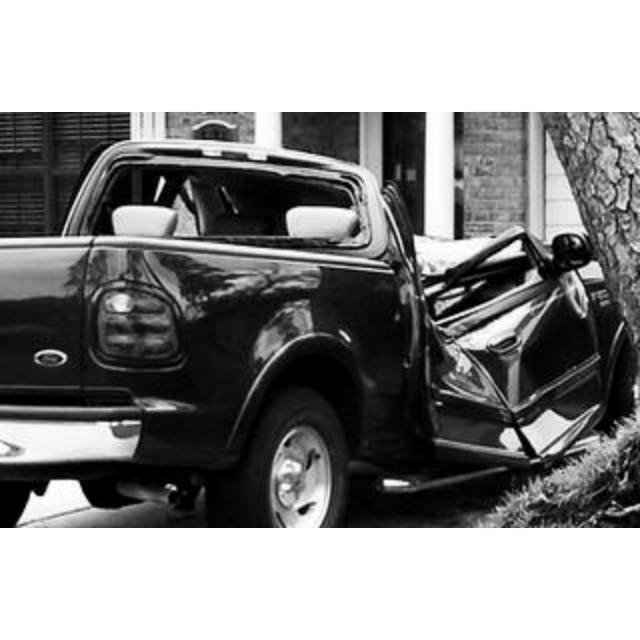doorouter-dent: (466, 300, 596, 442)
quaterpanel-dent: (114, 266, 312, 390)
